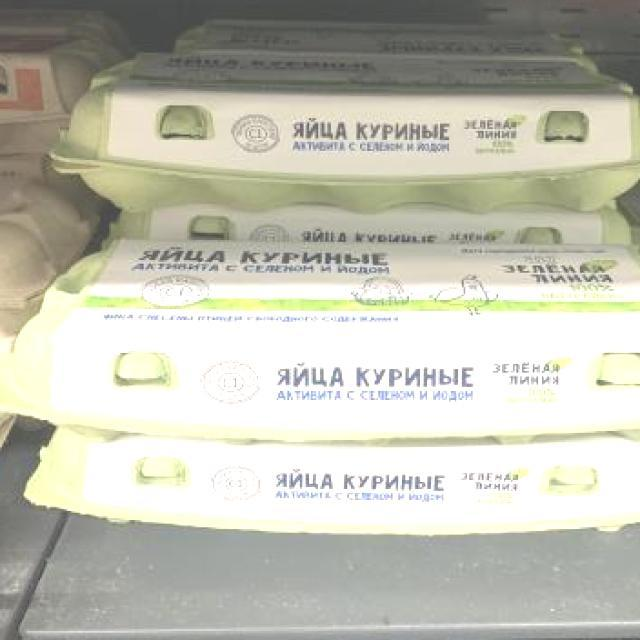Eggs: (0, 236, 640, 444), (43, 49, 640, 214), (20, 425, 640, 542)
